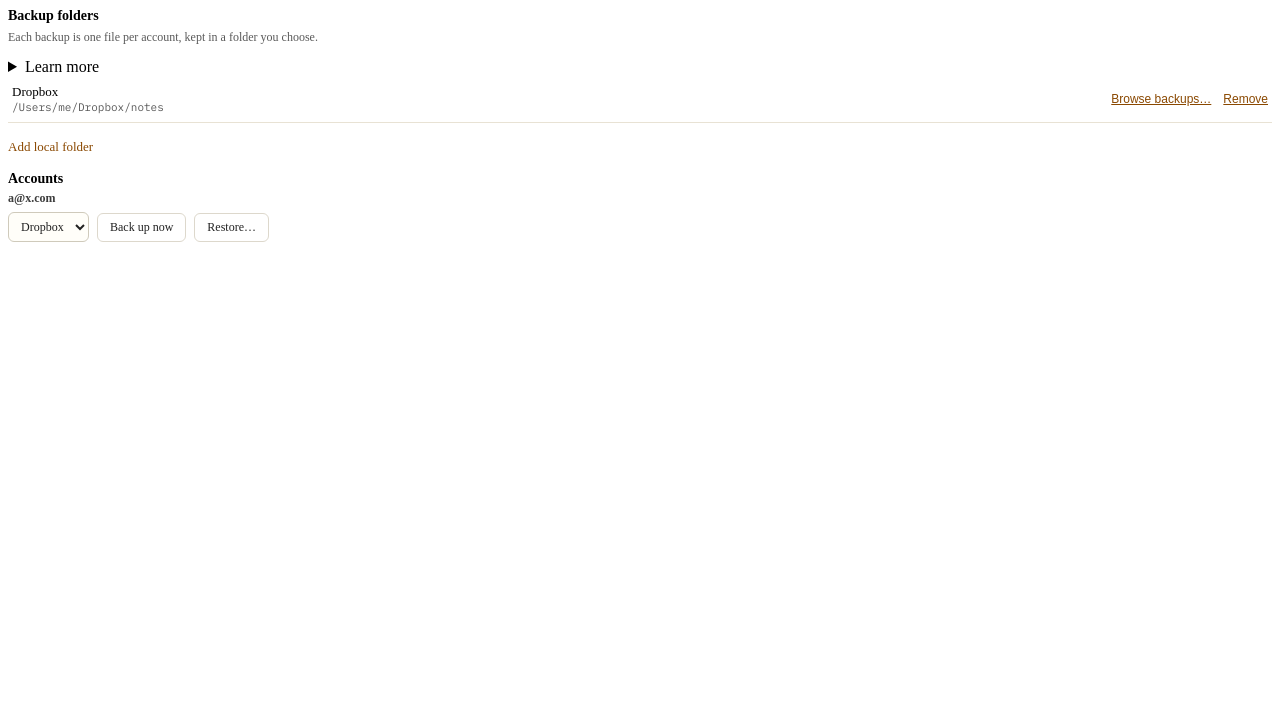
Test case: BackupPage › each account row opens a restore of that account
The width and height of the screenshot is (1280, 720).
Click the button "Restore…". click: click(232, 227)
box: [194,212,269,242]
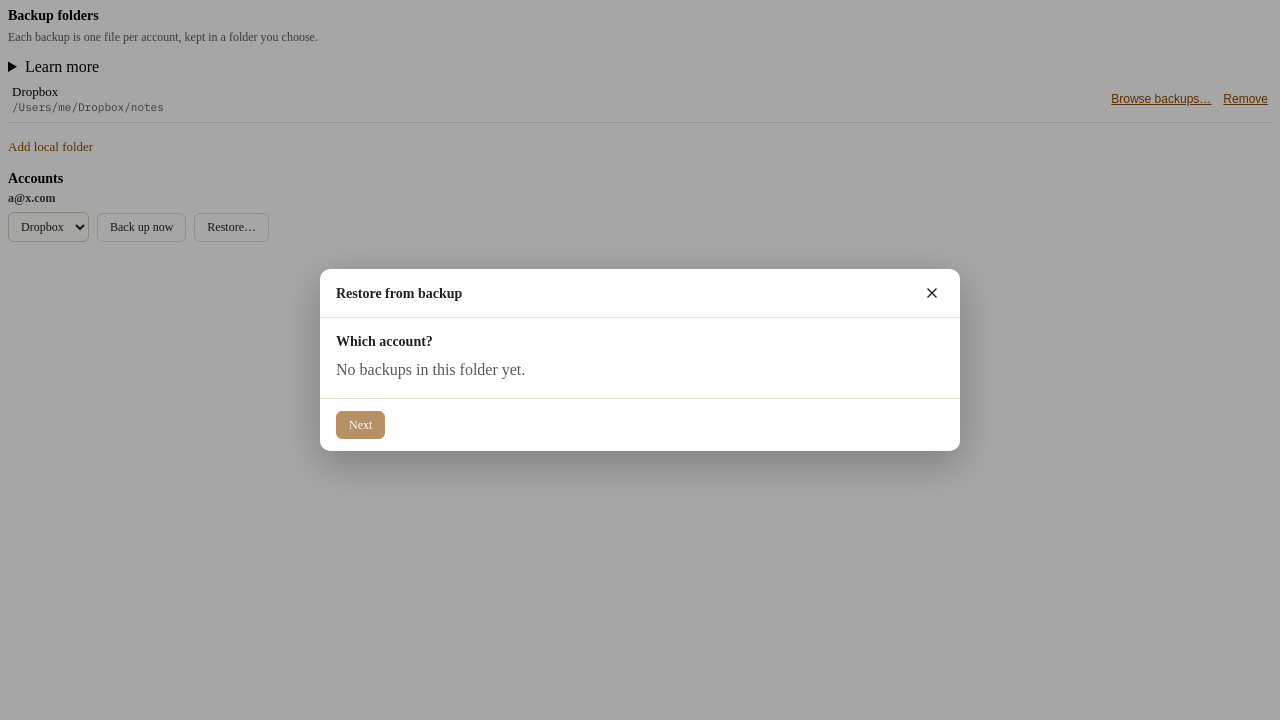
Now the text "Restore from backup" is shown, box [336,286,462,300]
